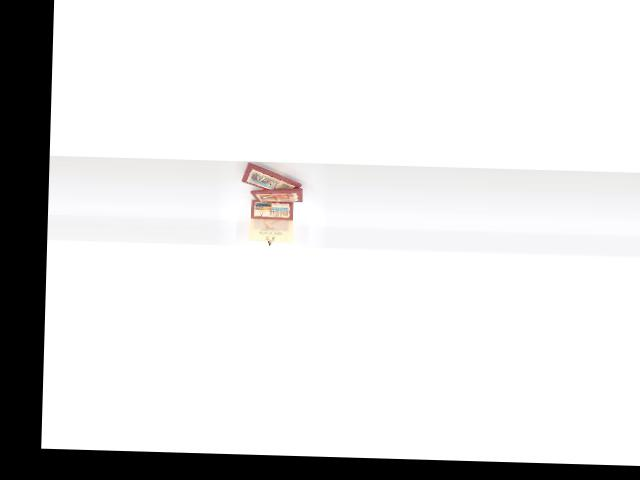chocolate: (228, 157, 305, 194)
